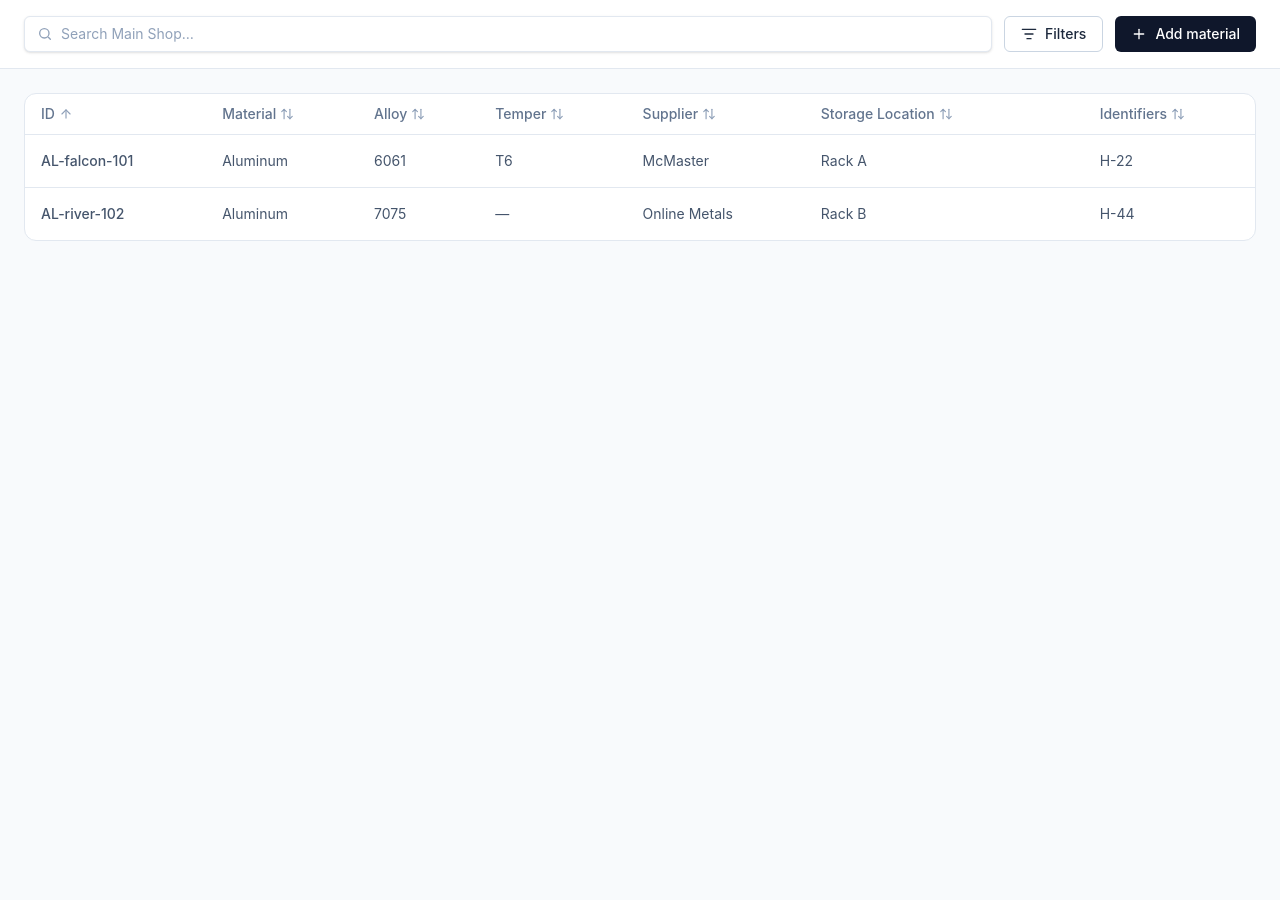
Test case: MaterialsWorkspace › shows filterable schema definitions in the flyout and narrows the current library
The image size is (1280, 900).
Step 1. Click the button with aria-label "Open filters" → click(1054, 34), box [1004,16,1103,52]
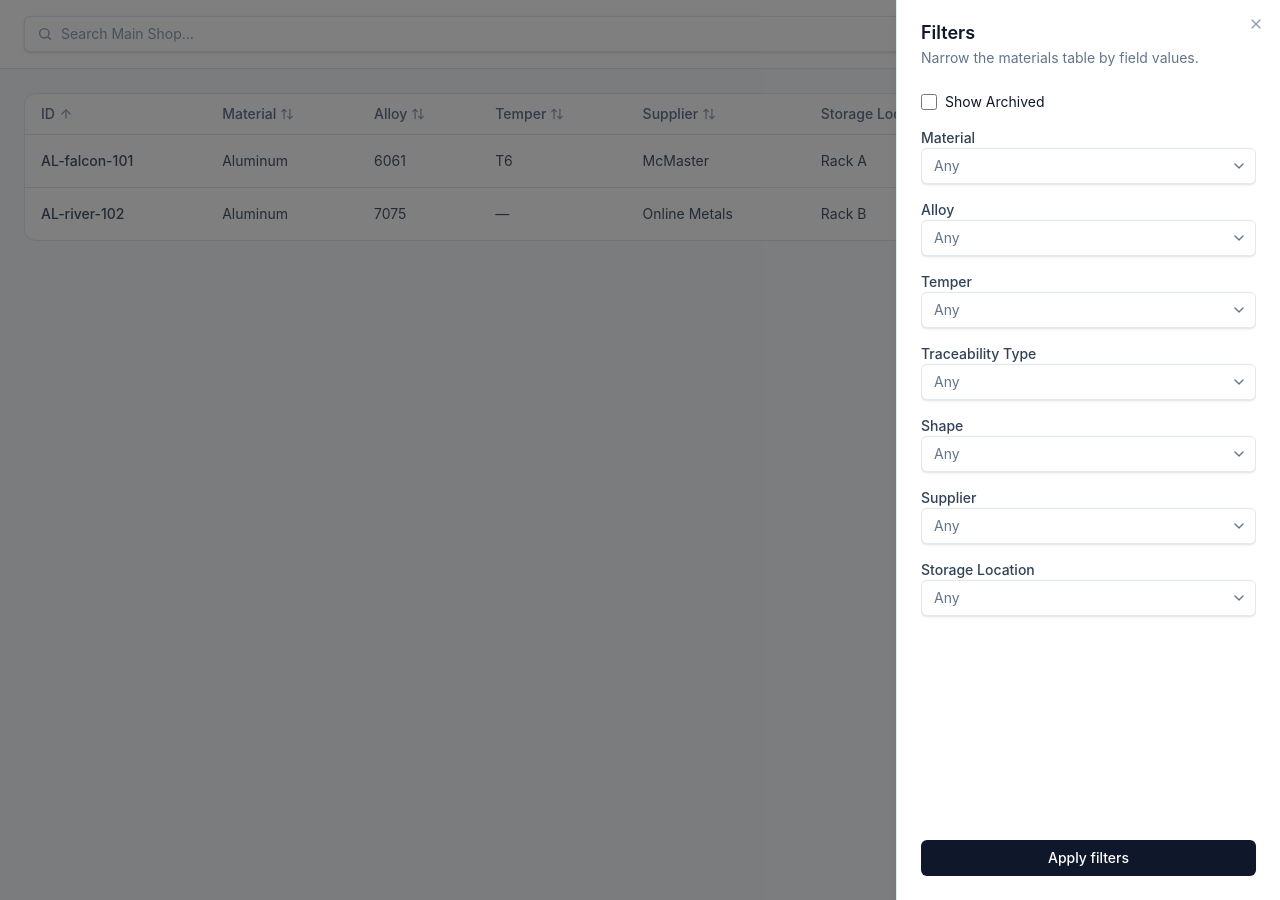
Result: the dropdown named "Filter by Material" is shown at [921,148,1256,184]
Result: the dropdown named "Filter by Supplier" is shown at [921,508,1256,544]
Step 2. Click the dropdown named "Filter by Storage Location" → click(947, 598), box [921,580,1256,616]
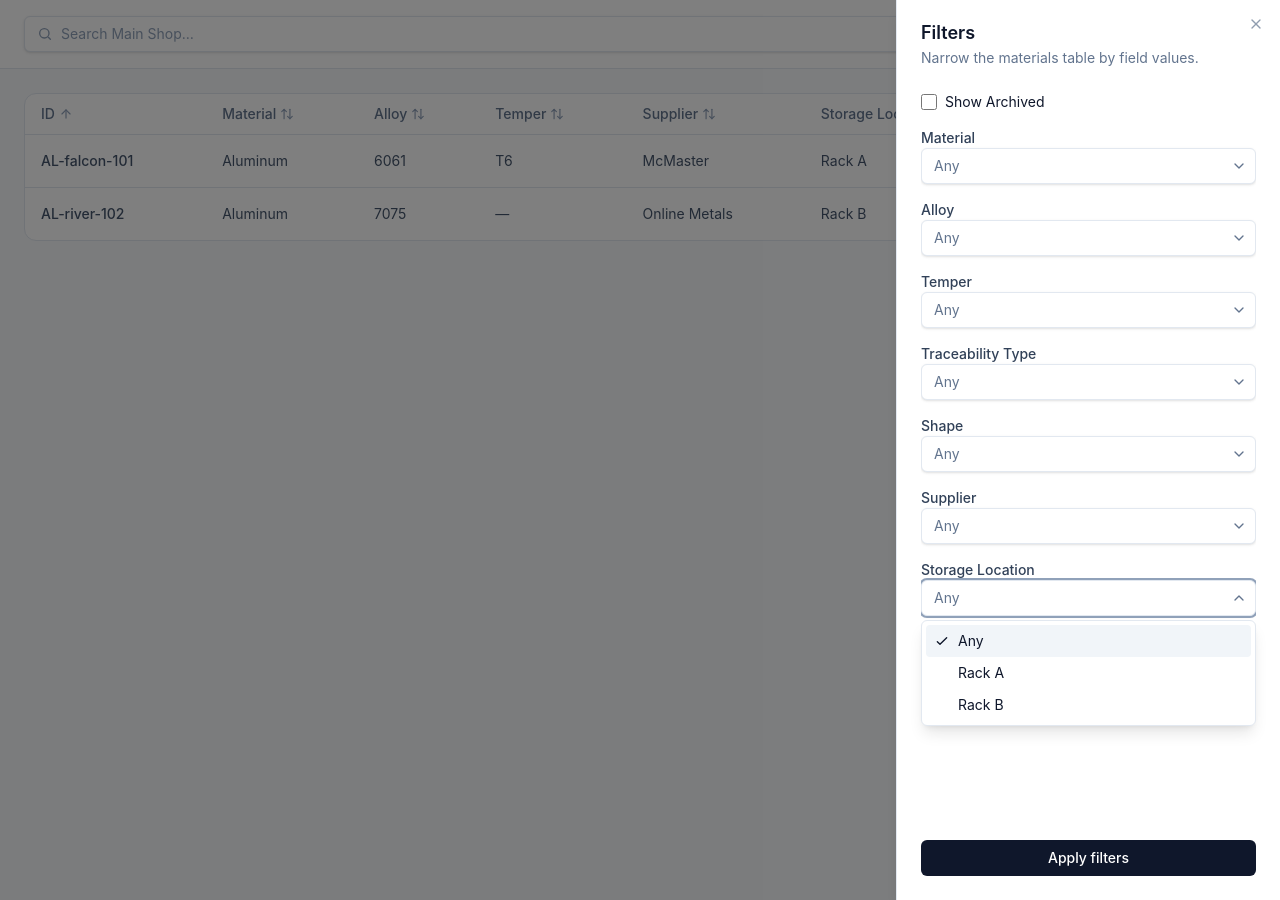
Result: the option "Rack A" is shown at [926,657,1251,689]
Result: the option "Rack B" is shown at [926,689,1251,721]
Step 3. Click the dropdown named "Filter by Storage Location" → click(947, 598), box [921,580,1256,616]
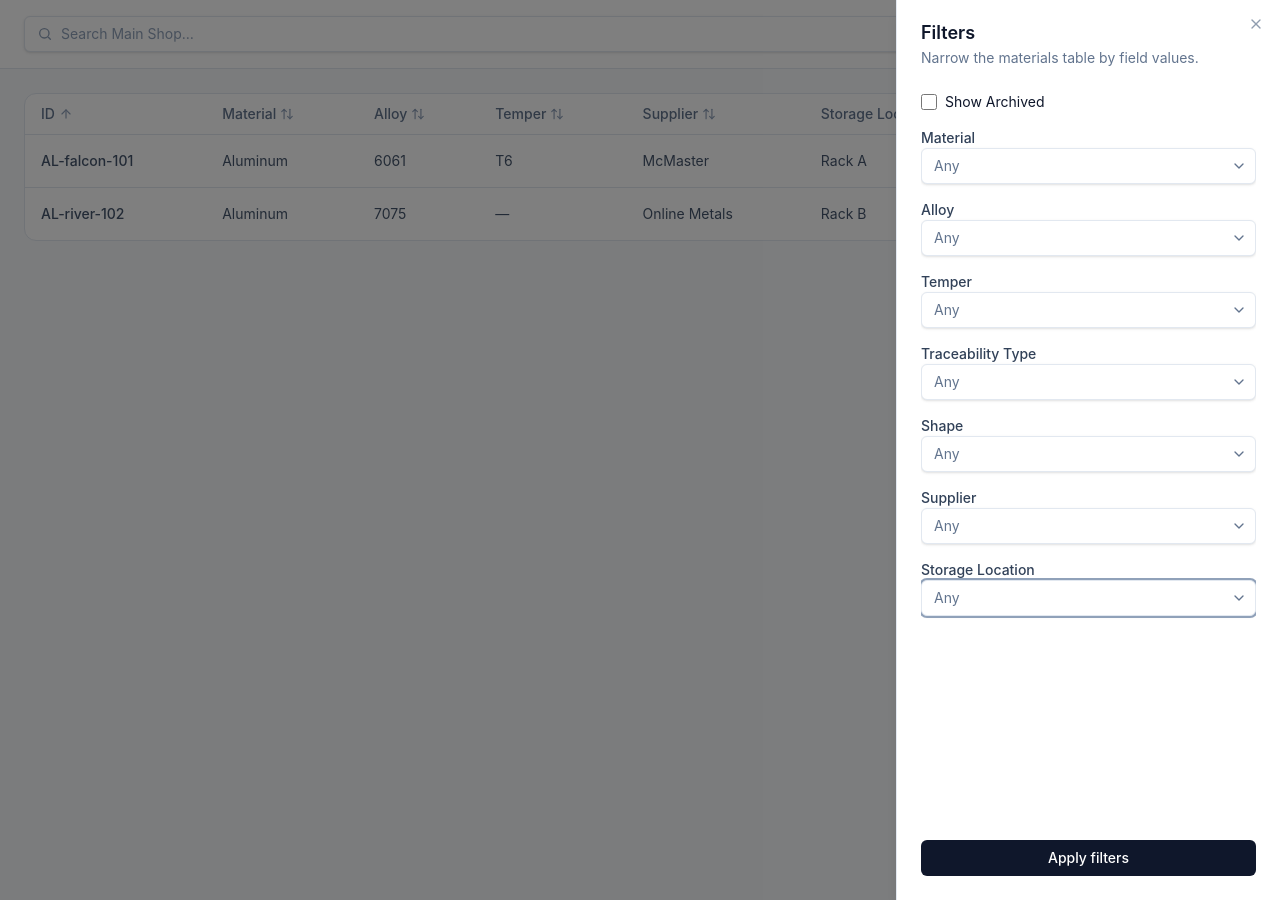
Step 4. Click the dropdown named "Filter by Supplier" → click(947, 526), box [921,508,1256,544]
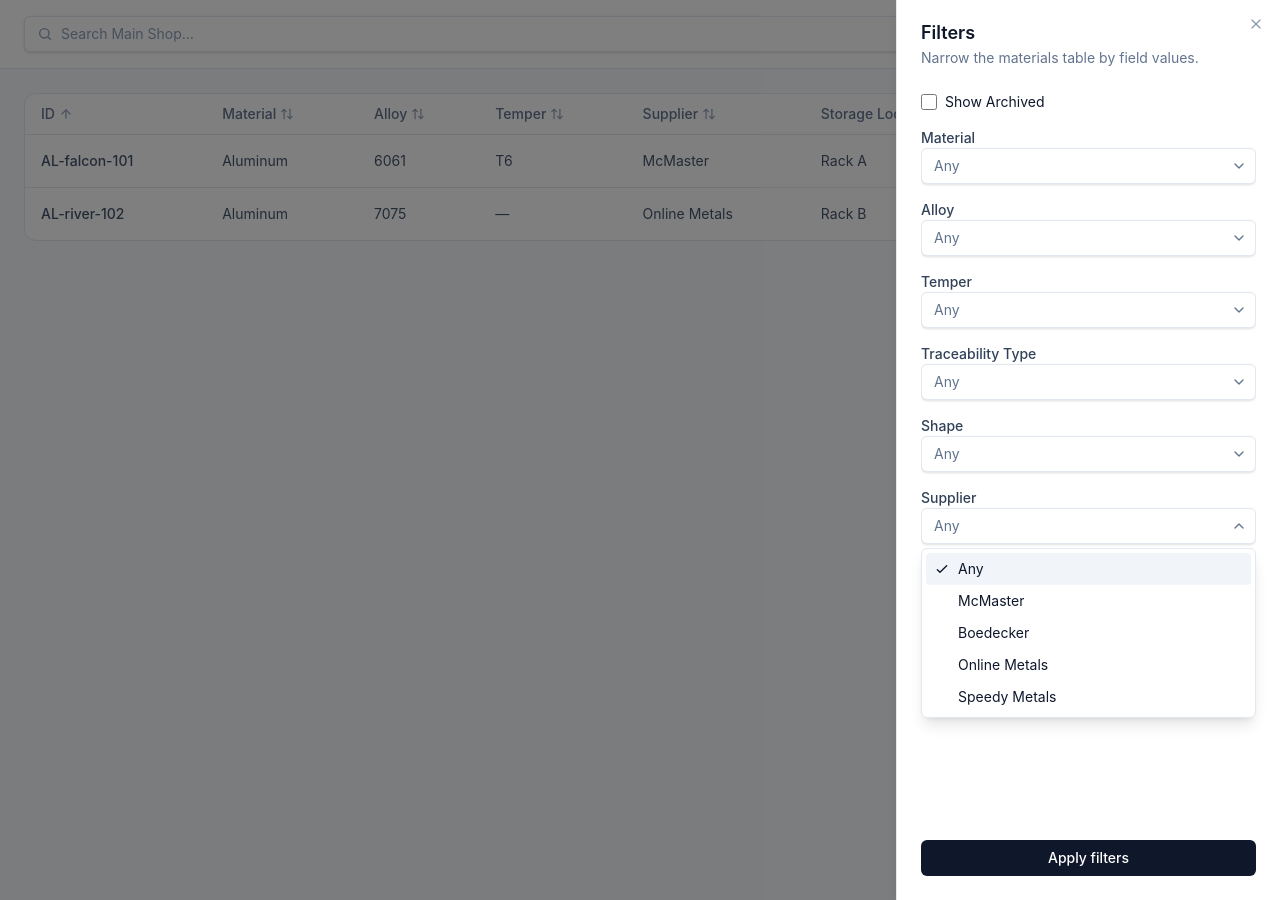
Step 5. Click the option "McMaster" → click(991, 600), box [926,585,1251,617]
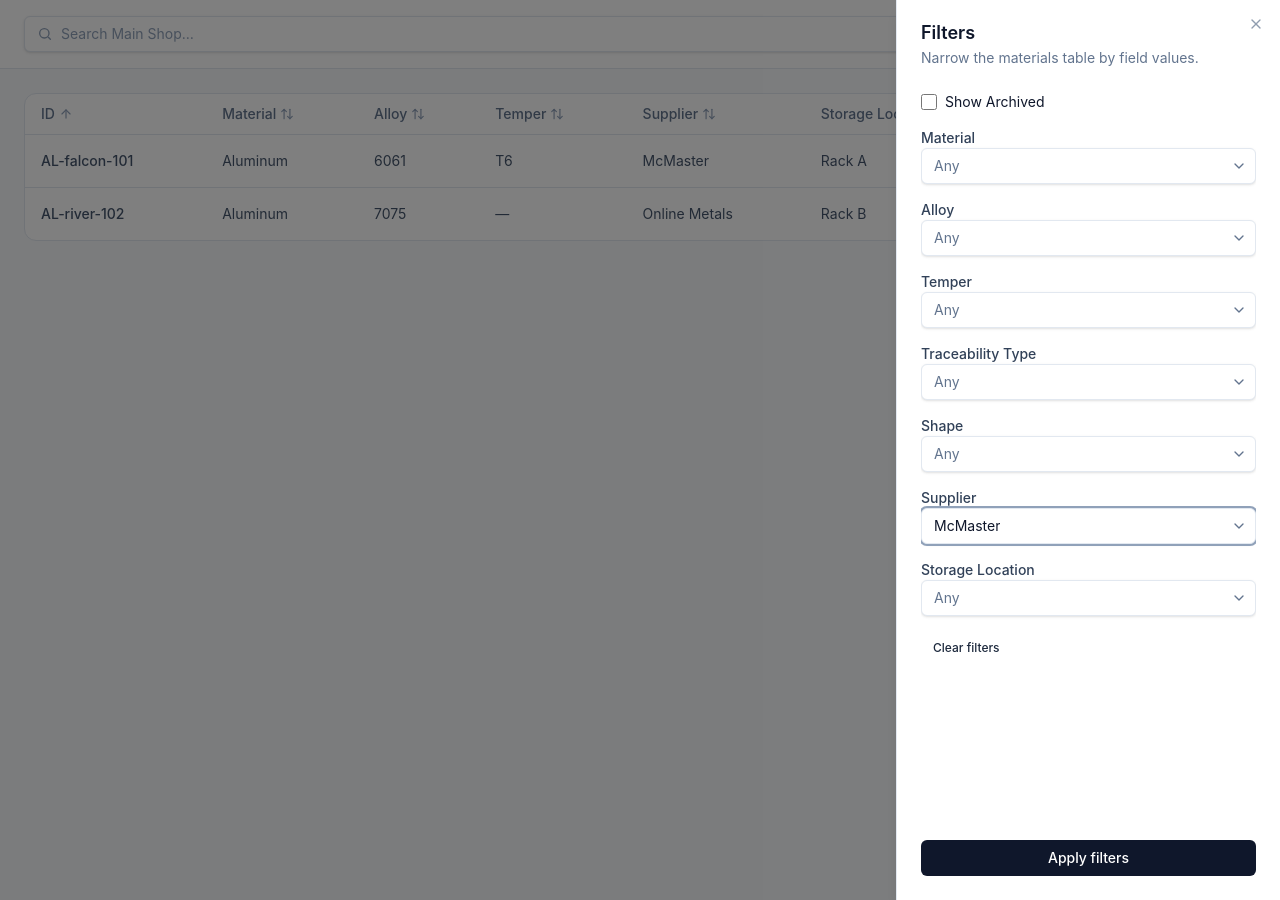
Step 6. Click the button "Apply filters" → click(1088, 858), box [921,840,1256,876]
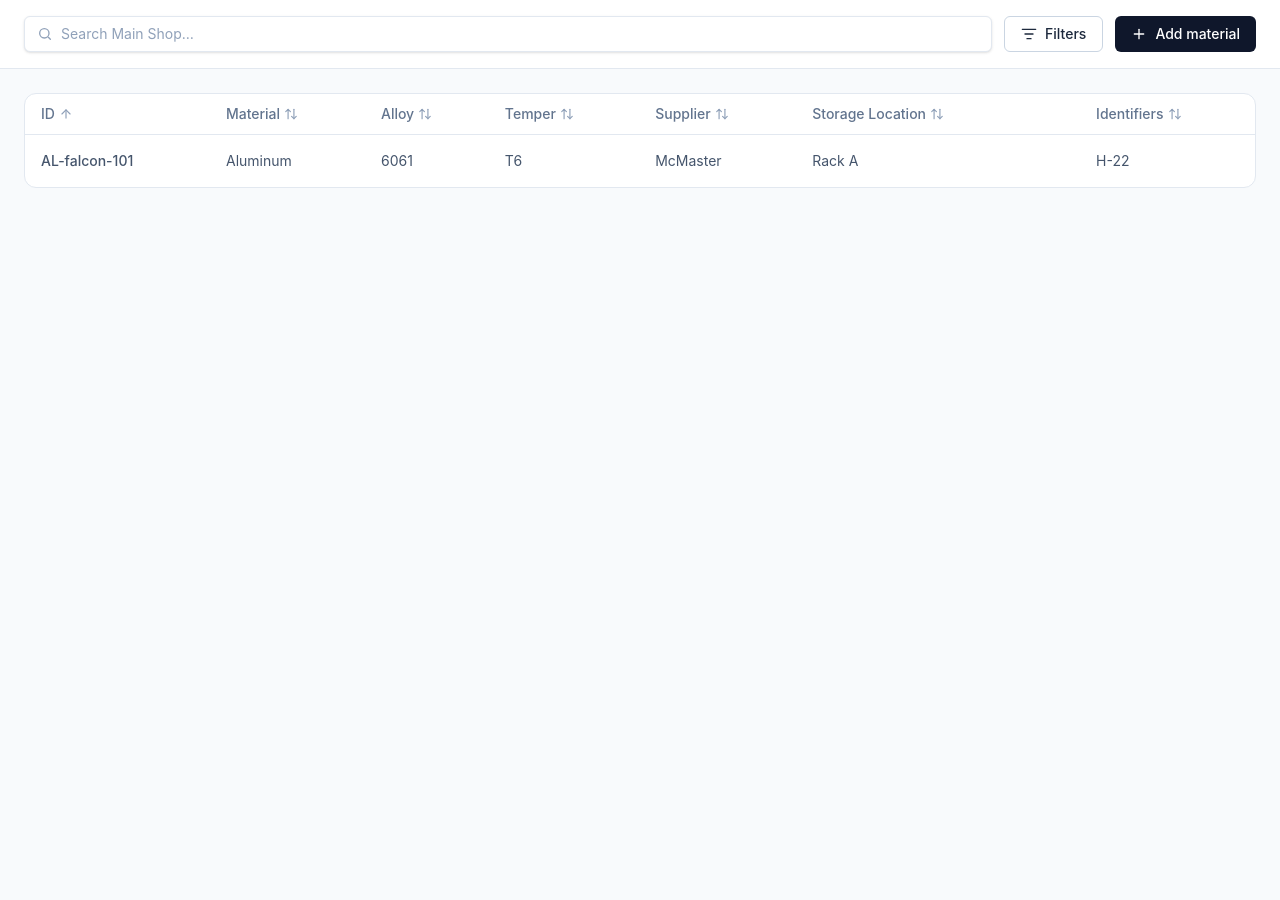
Expected: the text "6061" is shown, [365,134,489,186]
Result: the text "7075" is gone
